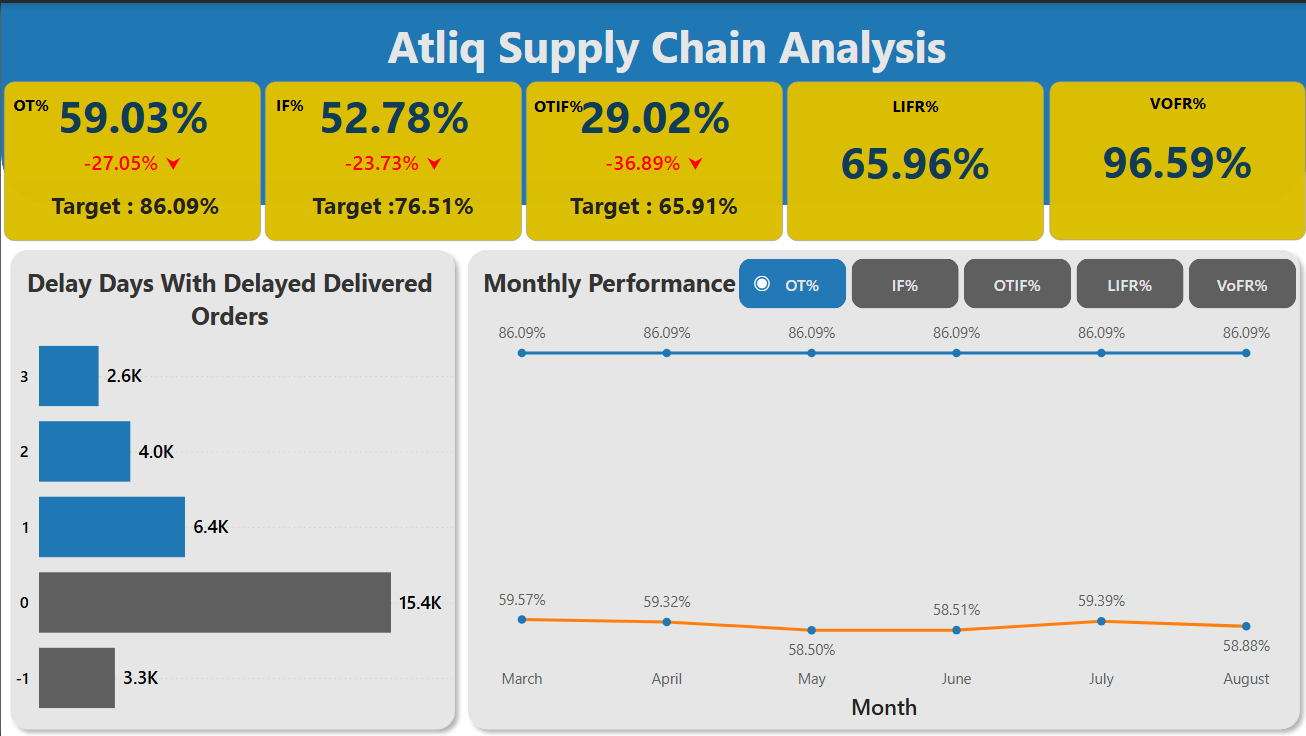

The page's visual inventory and layout, read from the dashboard file:
{"tool":"powerbi","page":{"name":"delay & monthly trends ","canvas":[1280,720],"ordinal":2},"visuals":[{"type":"shape","box":[0,0,1280,198.7],"z":0},{"type":"textbox","box":[31.4,9.2,1240.8,68],"z":1000},{"type":"group","id":"g1","title":"Group 4","box":[447.8,232.9,832,487.2],"z":1000,"group":"g3"},{"type":"group","id":"g2","title":"Group 1","box":[0,233.3,453.4,487.2],"z":2000},{"type":"group","id":"g3","title":"Group 2","box":[447.6,232.9,832.4,487.2],"z":3000},{"type":"card","fields":{"Values":["All Measures.VoFR%"]},"box":[1025.7,78.2,250.9,155.5],"z":4000},{"type":"card","fields":{"Values":["All Measures.LIFR%"]},"box":[768.9,78.2,251,156],"z":4500},{"type":"card","fields":{"Values":["IF.if_target_Title"]},"box":[258.3,78.2,251,156],"z":4625},{"type":"card","fields":{"Values":["OT.ot_target_Title"]},"box":[2.9,78.2,251,156],"z":4750},{"type":"card","fields":{"Values":["OTIF.otif_target_title"]},"box":[513.6,78.2,251,156],"z":4875},{"type":"textbox","box":[7.3,83.6,120.3,32.3],"z":5000},{"type":"shape","box":[447.8,232.9,832,487.2],"z":5000,"group":"g1"},{"type":"textbox","box":[264.1,83.6,120.3,32.3],"z":6000},{"type":"shape","box":[0,233.3,453,487.2],"z":6000,"group":"g2"},{"type":"textbox","box":[516.5,85.1,120.3,32.3],"z":7000},{"type":"textbox","box":[467.1,252,797,48.8],"z":7000,"group":"g1"},{"type":"textbox","box":[834.8,85.1,119.7,33.1],"z":8000},{"type":"textbox","box":[1091.5,81.9,119.7,33.1],"z":9000},{"type":"textbox","box":[0,252,447.3,86.6],"z":9000,"group":"g2"},{"type":"lineChart","fields":{"Y":["All Measures.Target_OT%","All Measures.OT%"],"Category":["dim date.date.Variation.Date Hierarchy.Quarter","dim date.date.Variation.Date Hierarchy.Month"]},"box":[447.6,289.7,832.4,417.2],"z":9000,"group":"g3"},{"type":"advancedSlicerVisual","fields":{"Values":["Service Level.Service  Level"]},"box":[722,250.5,545.9,49.9],"z":10000,"group":"g3"},{"type":"barChart","fields":{"Category":["fact order lines.Delay_Days"],"Y":["Count(fact order lines.order_id)"]},"box":[8.1,320,439.5,386.8],"z":14001,"group":"g2"}]}

Visuals, with their boxes in screenshot pixels (x1, y1, x2, y2), scaled from the page's 1280x720 canvas onto the 1306x736 screenshot:
shape: [0, 0, 1305, 203]
textbox: [32, 9, 1298, 79]
"Group 4" group: [457, 238, 1305, 735]
"Group 1" group: [0, 238, 463, 735]
"Group 2" group: [457, 238, 1305, 735]
card - All Measures.VoFR%: [1047, 80, 1303, 239]
card - All Measures.LIFR%: [785, 80, 1041, 239]
card - IF.if_target_Title: [264, 80, 520, 239]
card - OT.ot_target_Title: [3, 80, 259, 239]
card - OTIF.otif_target_title: [524, 80, 780, 239]
textbox: [7, 85, 130, 118]
shape: [457, 238, 1305, 735]
textbox: [269, 85, 392, 118]
shape: [0, 238, 462, 735]
textbox: [527, 87, 650, 120]
textbox: [477, 258, 1290, 307]
textbox: [852, 87, 974, 121]
textbox: [1114, 84, 1236, 118]
textbox: [0, 258, 456, 346]
lineChart - All Measures.Target_OT% x All Measures.OT%: [457, 296, 1305, 723]
advancedSlicerVisual - Service Level.Service  Level: [737, 256, 1294, 307]
barChart - fact order lines.Delay_Days x Count(fact order lines.order_id): [8, 327, 457, 723]
